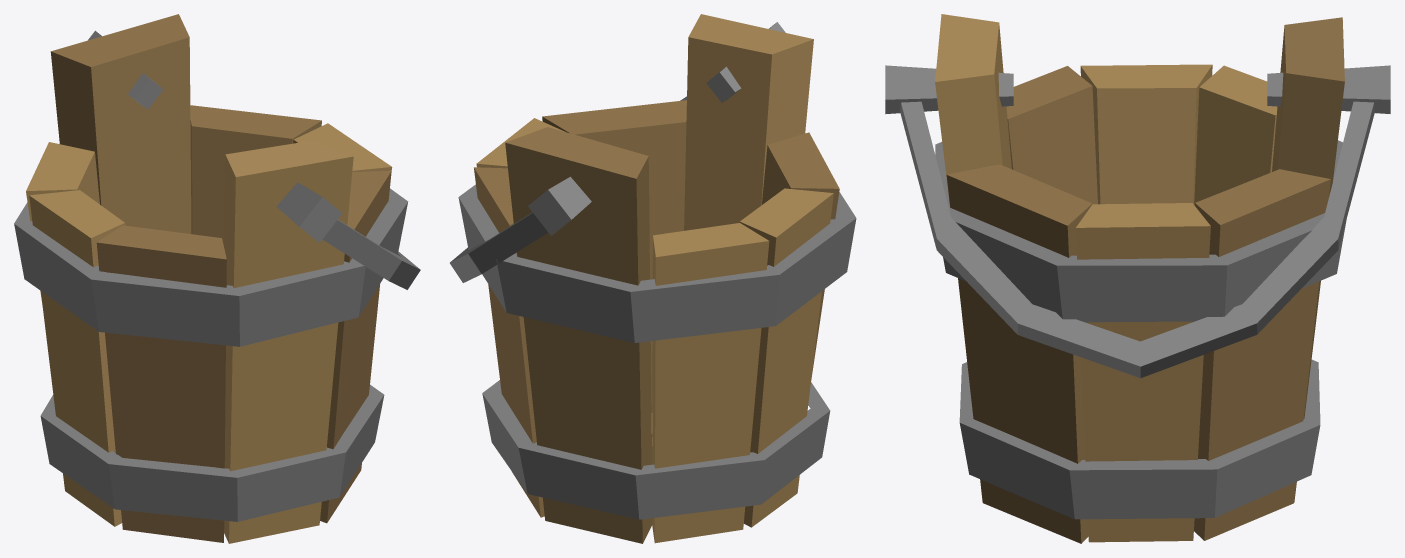
Rendered from Wooden_Bucket.gltf.
3 renders of one model, left to right at view 1: azimuth 30°, elevation 25°; view 2: azimuth 150°, elevation 25°; view 3: azimuth 270°, elevation 25°, orthographic. The views are drawn at different scales.
Parts seen in each view (by area): view 1: Wooden_Bucket2; view 2: Wooden_Bucket2; view 3: Wooden_Bucket2.
Part boxes in pixels (x1=…): Wooden_Bucket2: x1=14, y1=14, x2=420, y2=543; Wooden_Bucket2: x1=450, y1=14, x2=856, y2=543; Wooden_Bucket2: x1=885, y1=14, x2=1390, y2=543.
Bounding box in the file's own units: 0.1411 × 0.1536 × 0.1625.
Materials: 1 (1 with a texture image).
